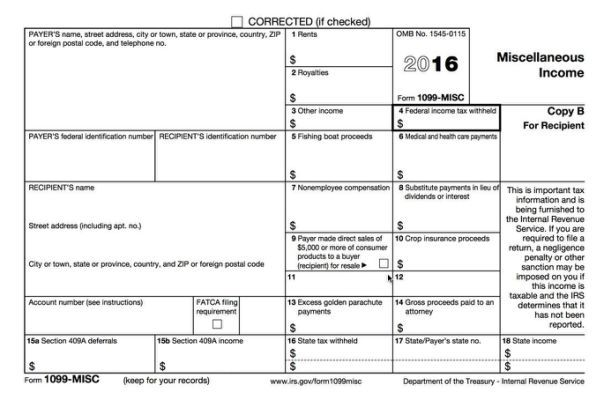checkbox: (229, 14, 245, 28), (210, 316, 224, 330), (377, 257, 389, 269)
textbox: (23, 26, 287, 132), (22, 179, 286, 218), (22, 217, 286, 256), (22, 257, 286, 296), (22, 127, 157, 182), (152, 128, 287, 183), (22, 294, 195, 336), (390, 128, 502, 184), (283, 127, 395, 183), (282, 178, 394, 234), (388, 179, 500, 235), (21, 332, 157, 374), (153, 332, 287, 373), (389, 229, 502, 273), (282, 294, 395, 336), (389, 294, 502, 336), (284, 26, 394, 67), (284, 64, 394, 105), (283, 332, 395, 363), (390, 269, 501, 299), (284, 269, 394, 299), (283, 102, 394, 131), (391, 102, 502, 131), (392, 332, 503, 361), (498, 332, 587, 363), (237, 294, 287, 336), (391, 356, 502, 374), (281, 354, 392, 372), (496, 357, 588, 375)
